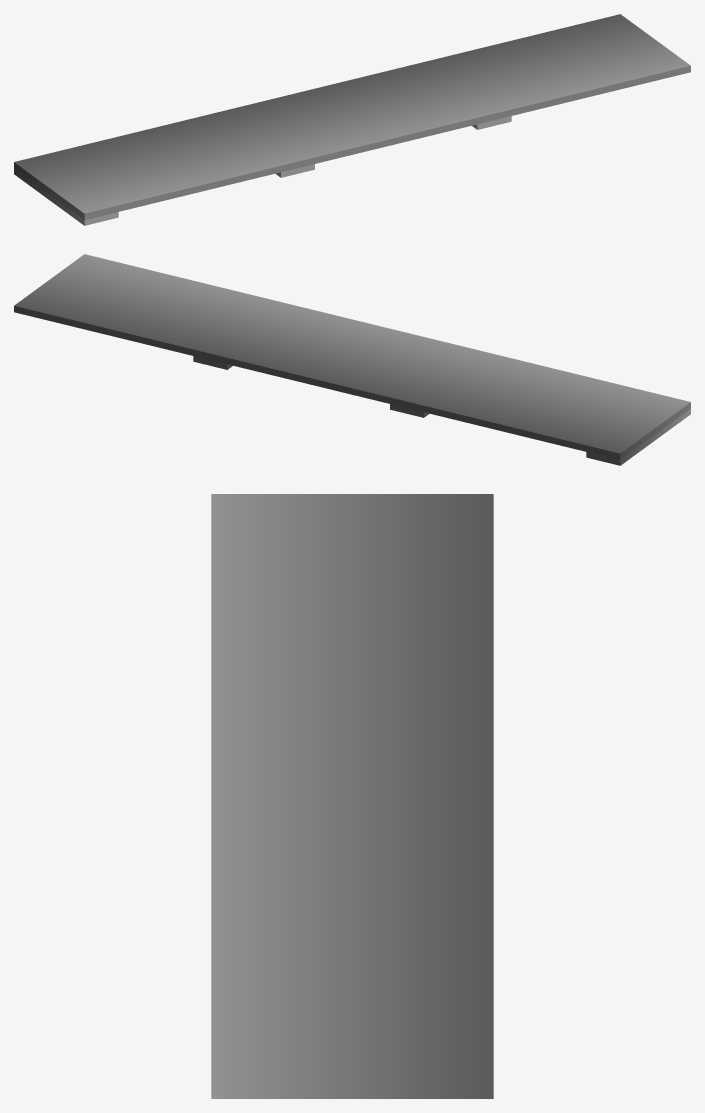
File: WallRoad.fbx
3 renders of one model, top to bottom at view 1: azimuth 30°, elevation 25°; view 2: azimuth 150°, elevation 25°; view 3: azimuth 270°, elevation 25°, orthographic. The views are drawn at different scales.
Visible parts, largest first — view 1: WallRoad; view 2: WallRoad; view 3: WallRoad.
Part boxes in pixels (x1,y1,x2,y2): WallRoad: [14, 14, 690, 225]; WallRoad: [14, 254, 690, 465]; WallRoad: [211, 494, 493, 1098].
Size of the model in its own units: 33.63 by 0.6457 by 6.78.
Materials: 1 (1 with a texture image).
